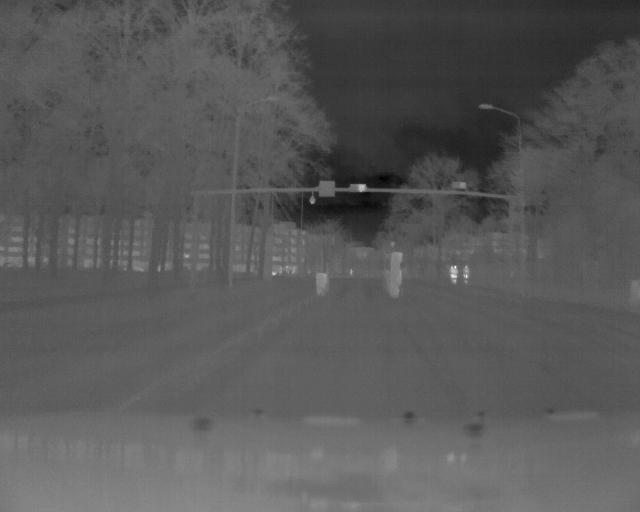person: (462, 264, 472, 286), (451, 263, 459, 282)
